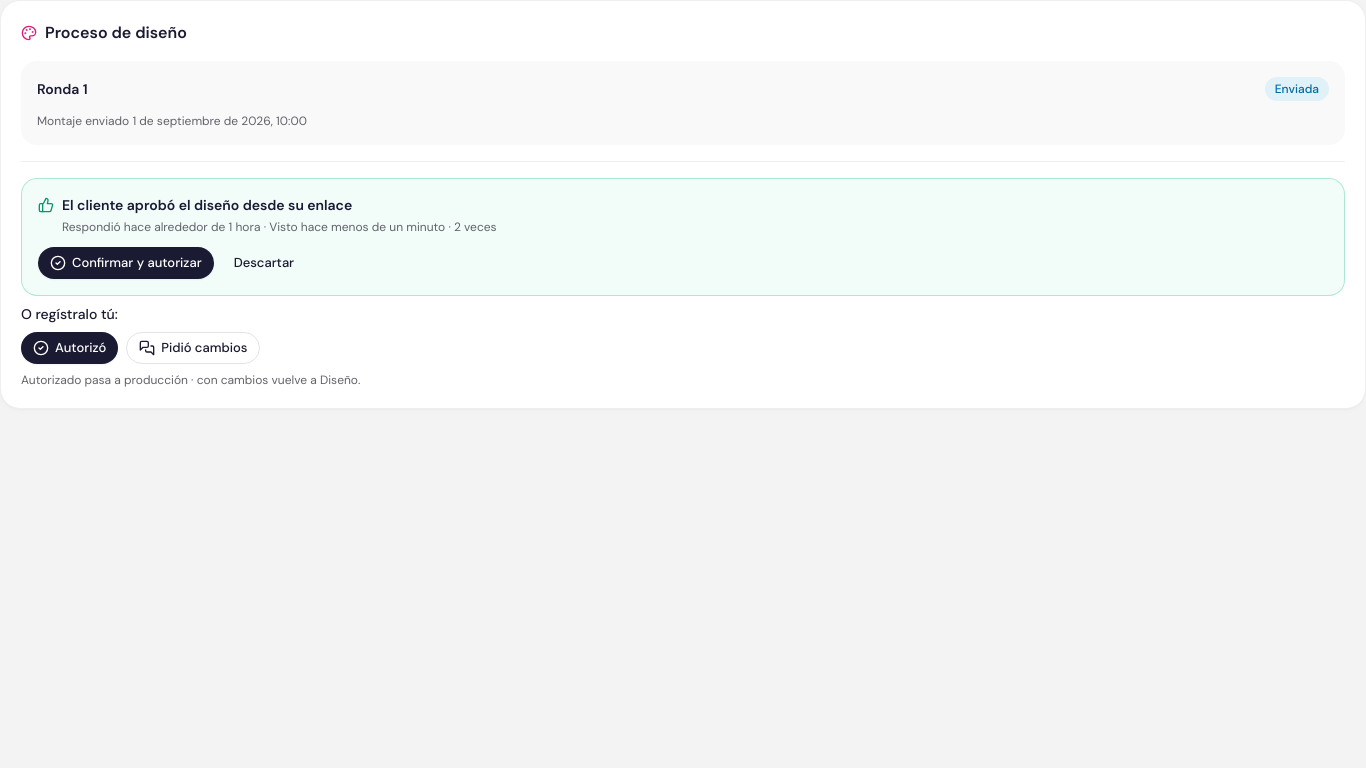
Scenario: DesignFlowSection - el cliente respondió desde su enlace › aprobó: 'Confirmar y autorizar' abre la hoja de materiales
Expected: the element named "Respuesta del cliente desde su enlace" shows "El cliente aprobó el diseño desde su enlace", [62,196,352,214]
Expected: the element named "Respuesta del cliente desde su enlace" shows "2 veces", [260,219,497,235]
Click the button "Confirmar y autorizar" at (126,263), box [38,247,214,279]
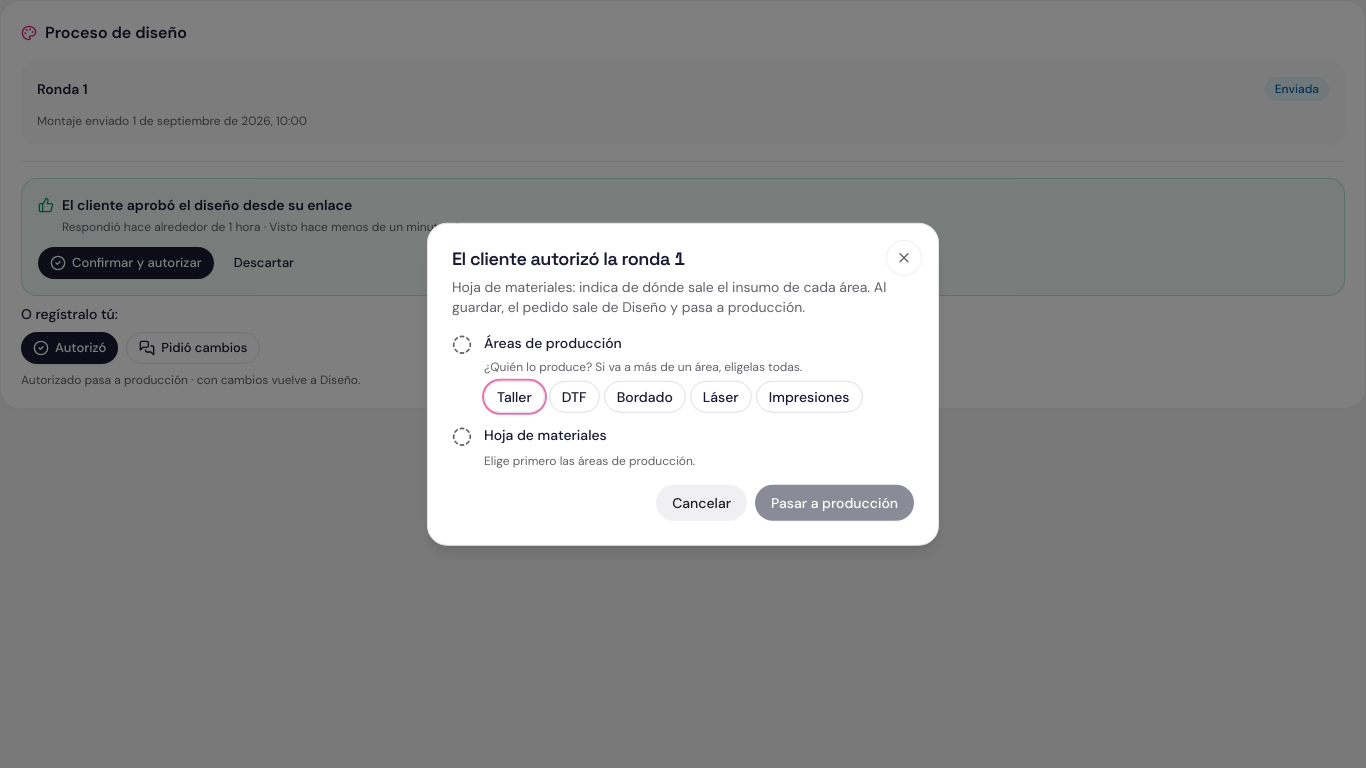
Now the dialog shows "Hoja de materiales", box [484,425,607,443]
